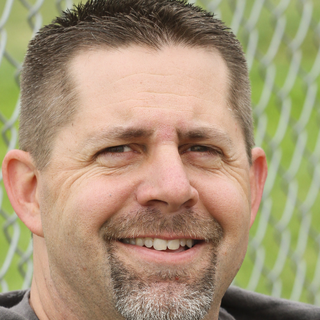eye: (92, 140, 144, 163), (179, 139, 227, 163)
